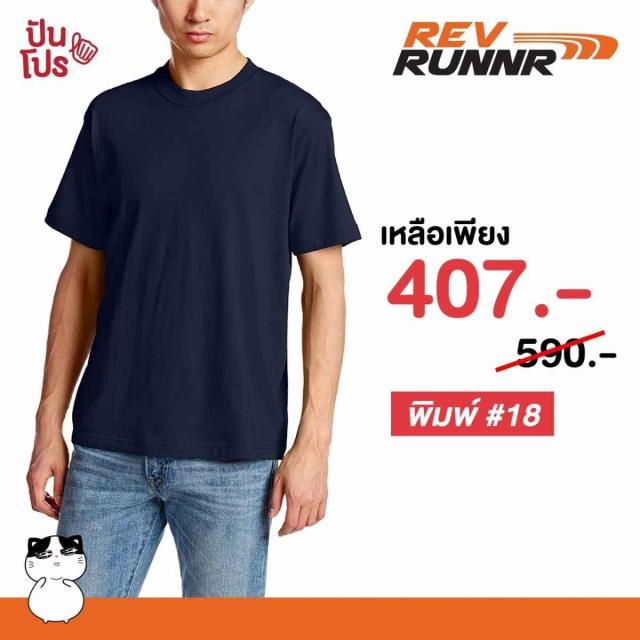Tshirt: (48, 66, 362, 454)
